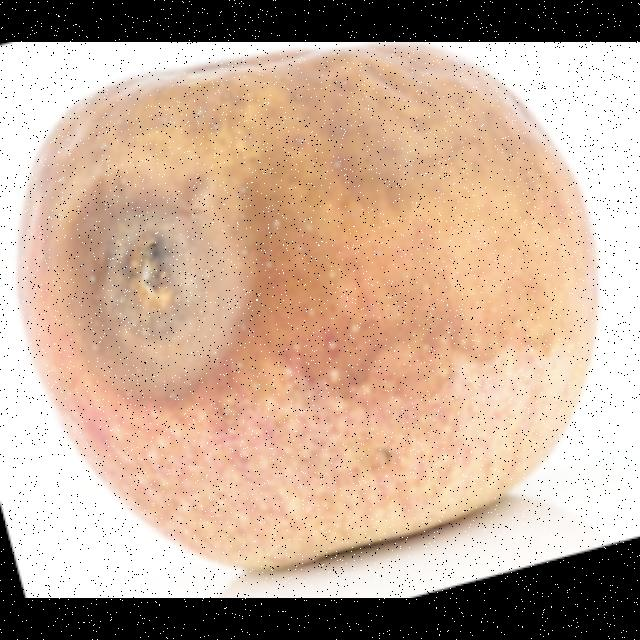Apel Tidak Segar: (8, 42, 609, 572)
